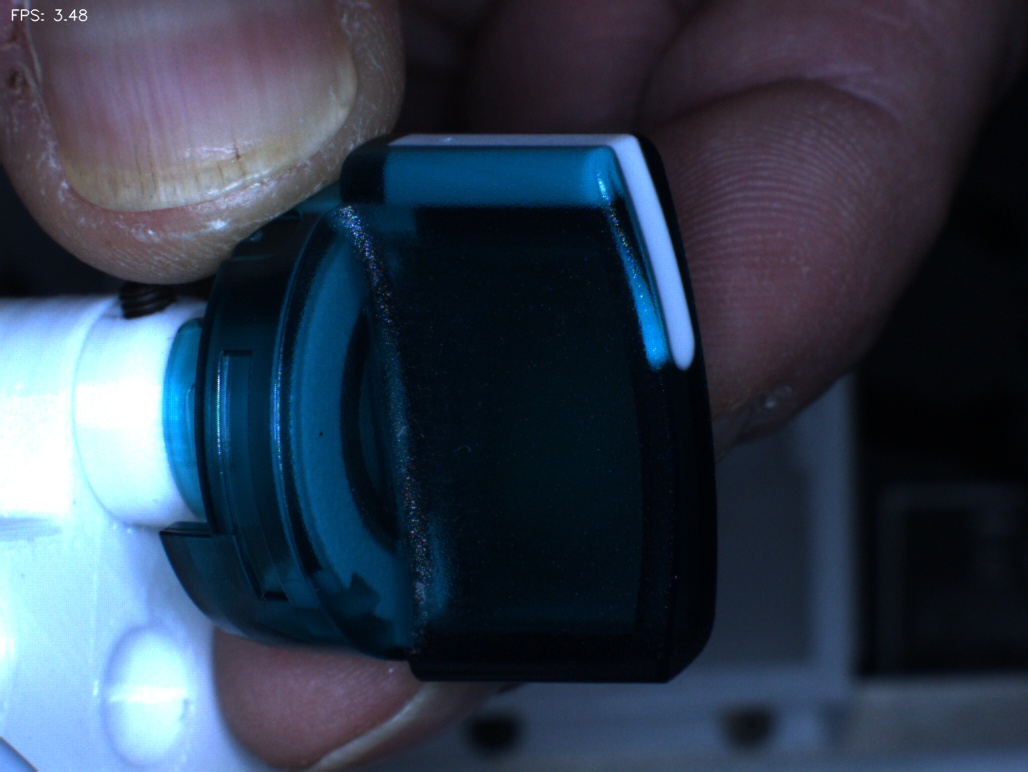PointNoir: (290, 392, 356, 473)
